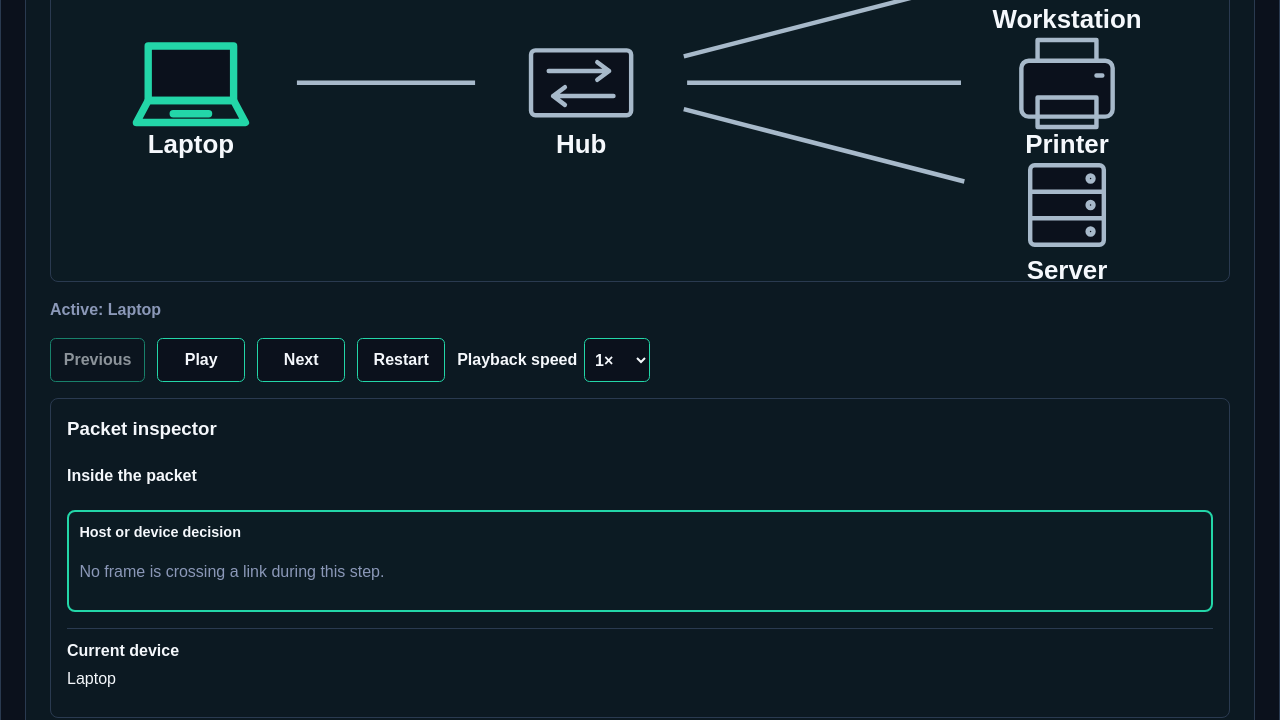
HubRepeaterDemo › waits for Play before showing a teaching bubble
(page scrolled)
Click the button "Play": (201, 360) [157,338,245,382]
(page scrolled)
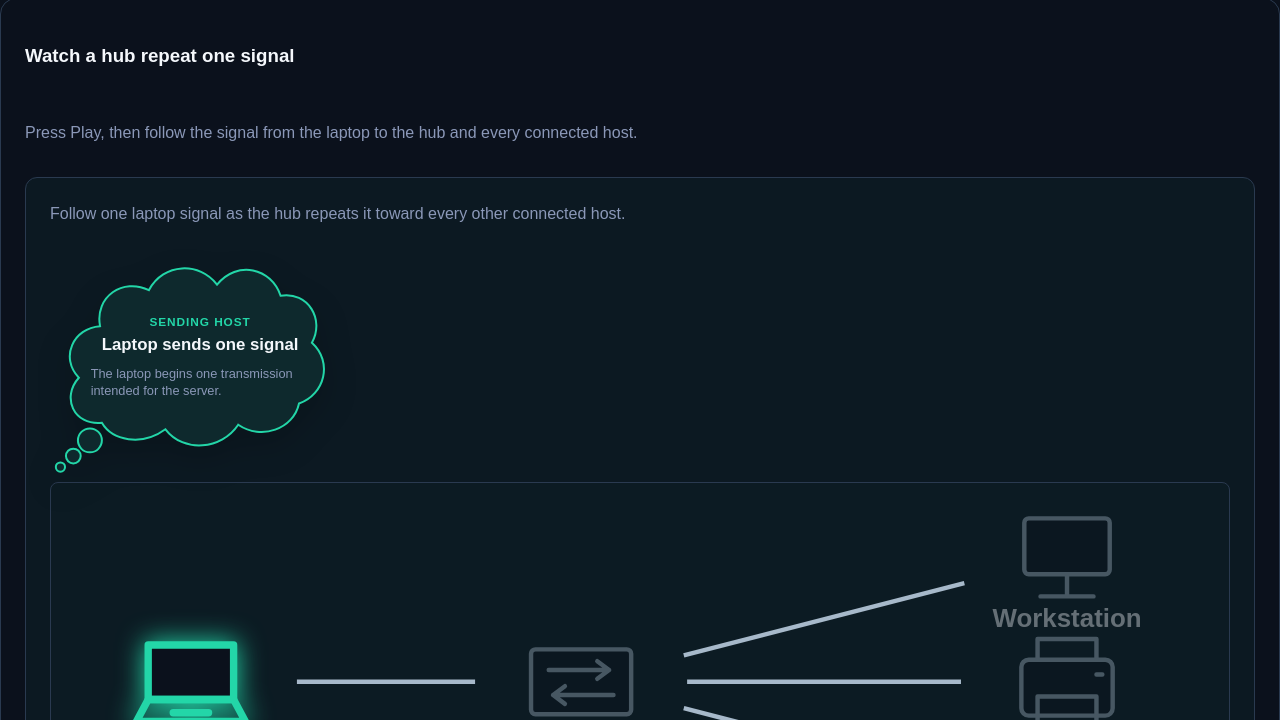
Result: the message shows "Laptop sends one signal" at [102,336,298,354]
